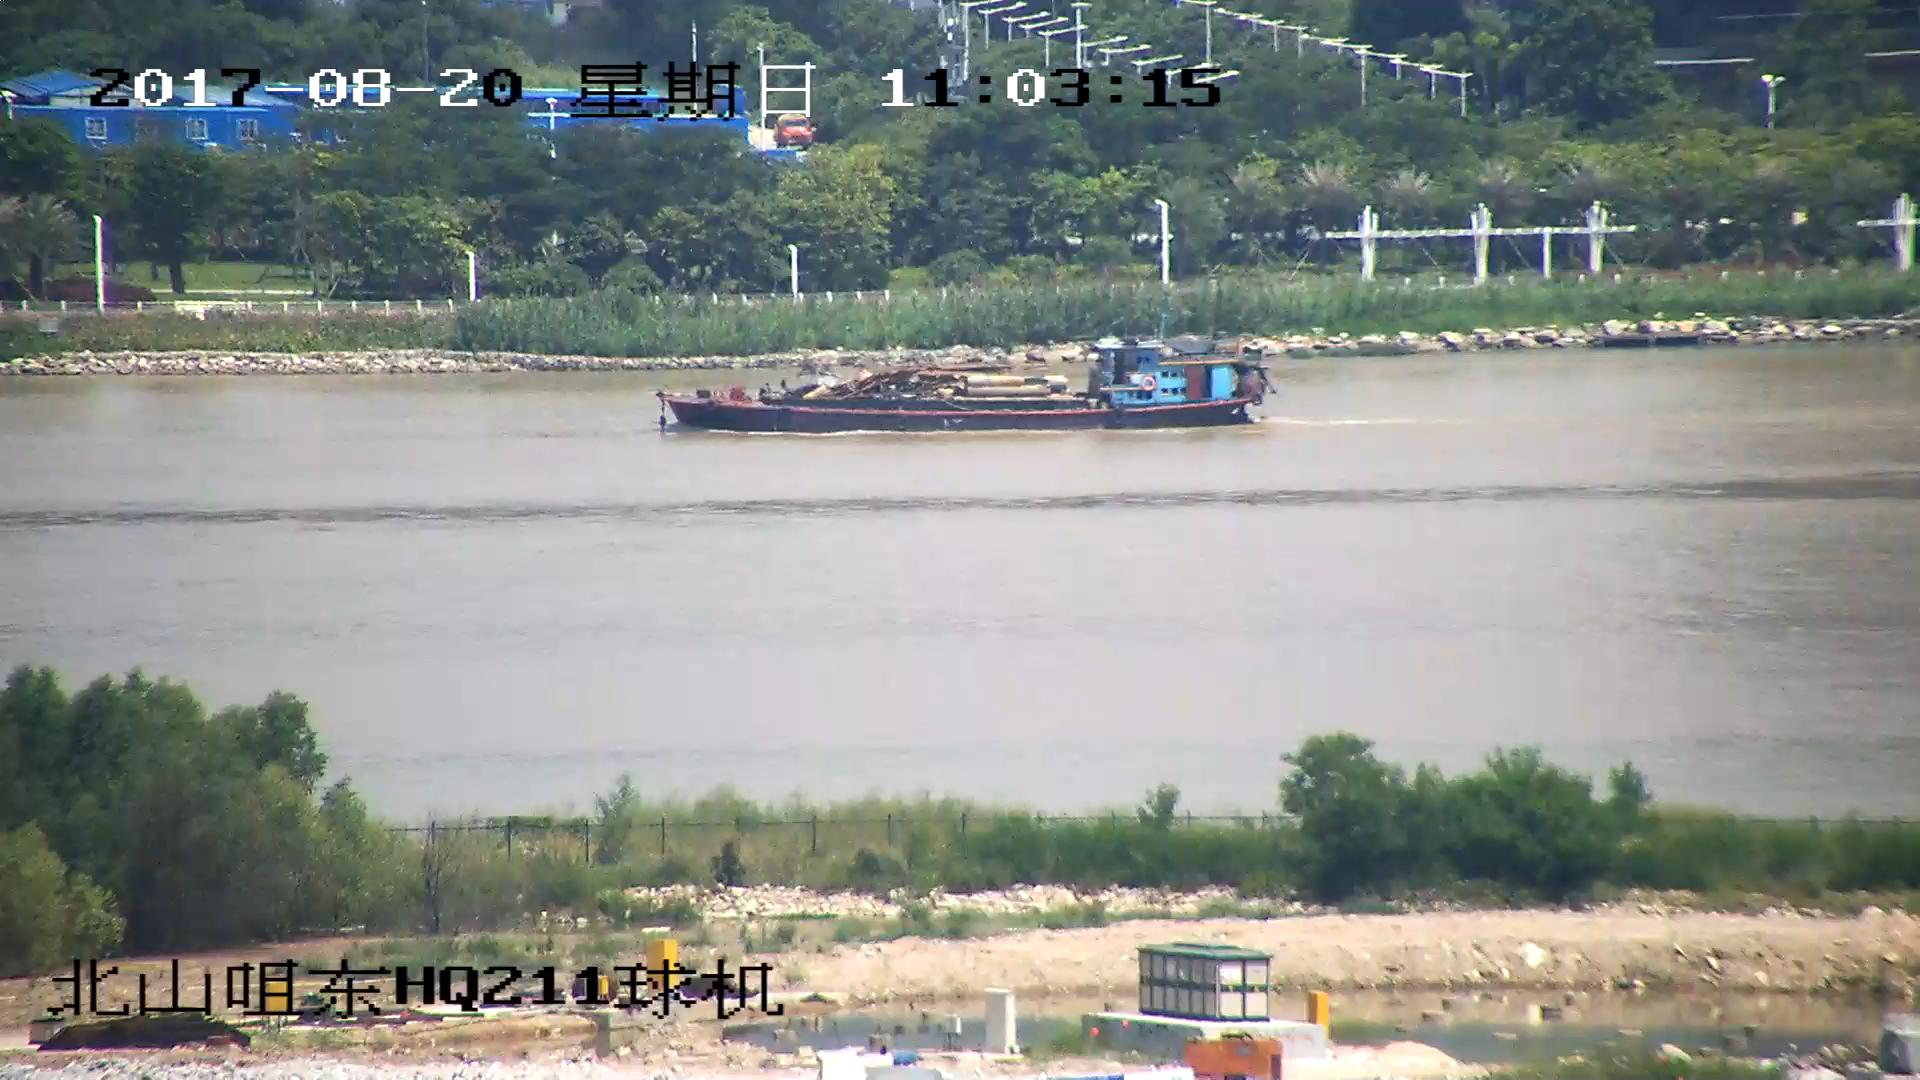bulk cargo carrier: (663, 345, 1272, 434)
